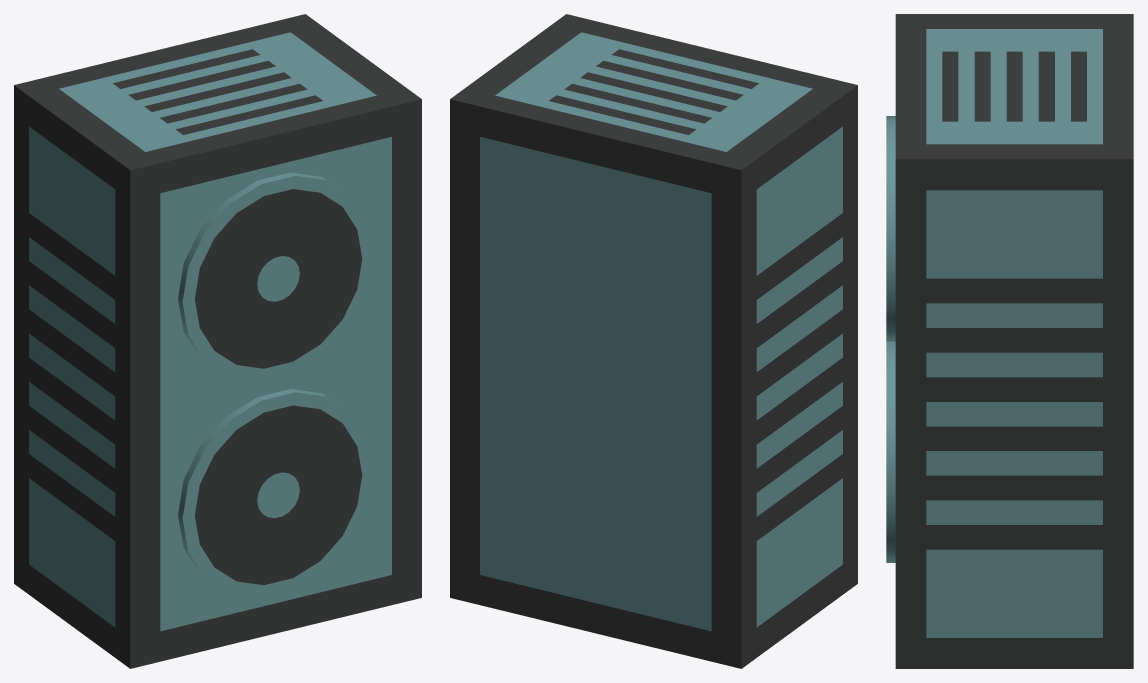
3 views of the same model, side by side, from view 1: azimuth 30°, elevation 25°; view 2: azimuth 150°, elevation 25°; view 3: azimuth 270°, elevation 25° (orthographic). The views are drawn at different scales.
Parts seen in each view (by area): view 1: ac5; view 2: ac5; view 3: ac5.
Boxes of the visible parts, box(x1,y1,x2,y2) form: ac5: box(14, 14, 421, 668); ac5: box(450, 14, 857, 668); ac5: box(886, 14, 1133, 668).
Bounding box in the file's own units: 2 × 3.27 × 1.44.
